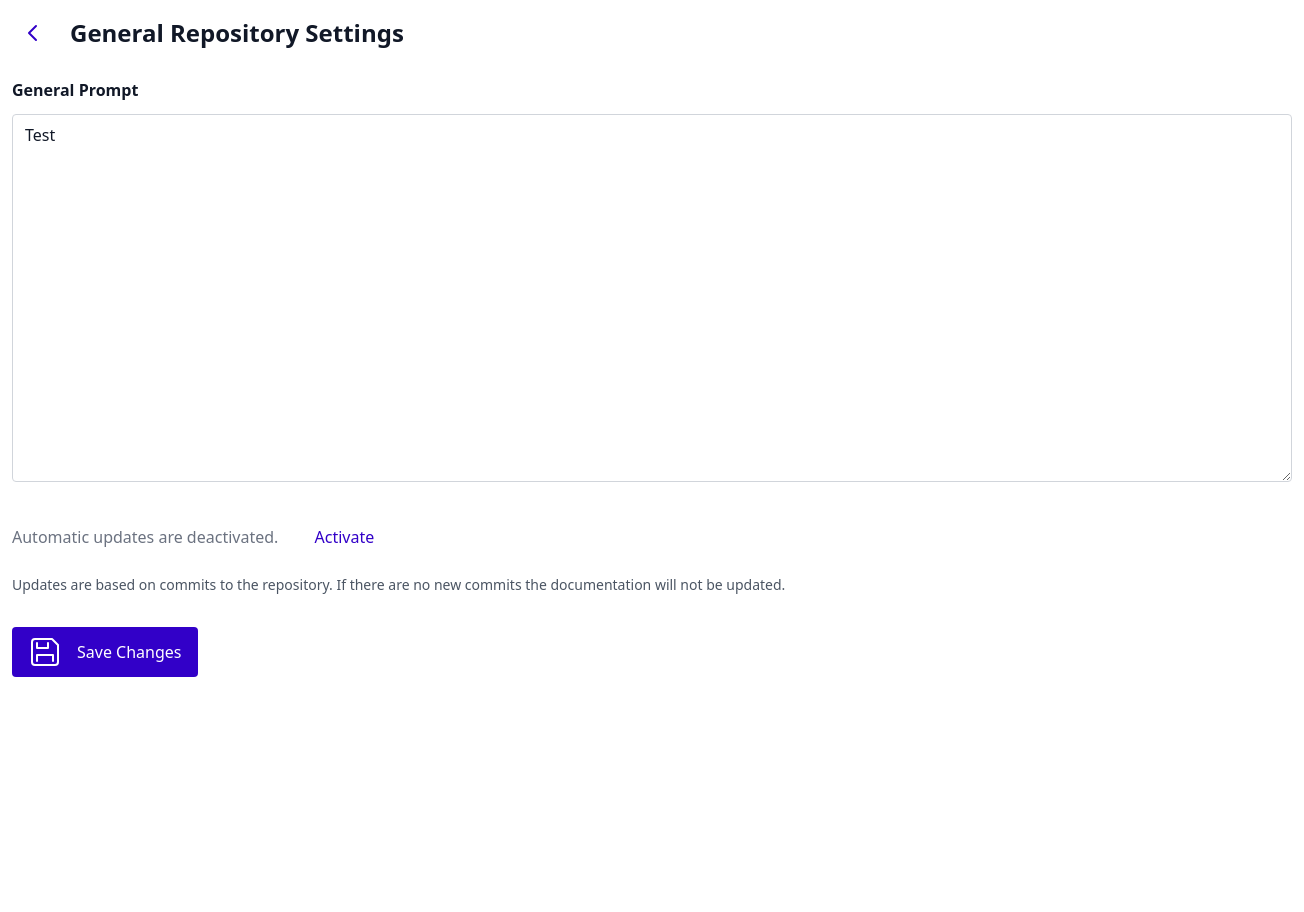
Test case: GeneralSetting - unit tests › enables automatic updates when activate is clicked
The image size is (1304, 912).
Click the button "Activate".
click(344, 537)  # box [294,514,394,559]
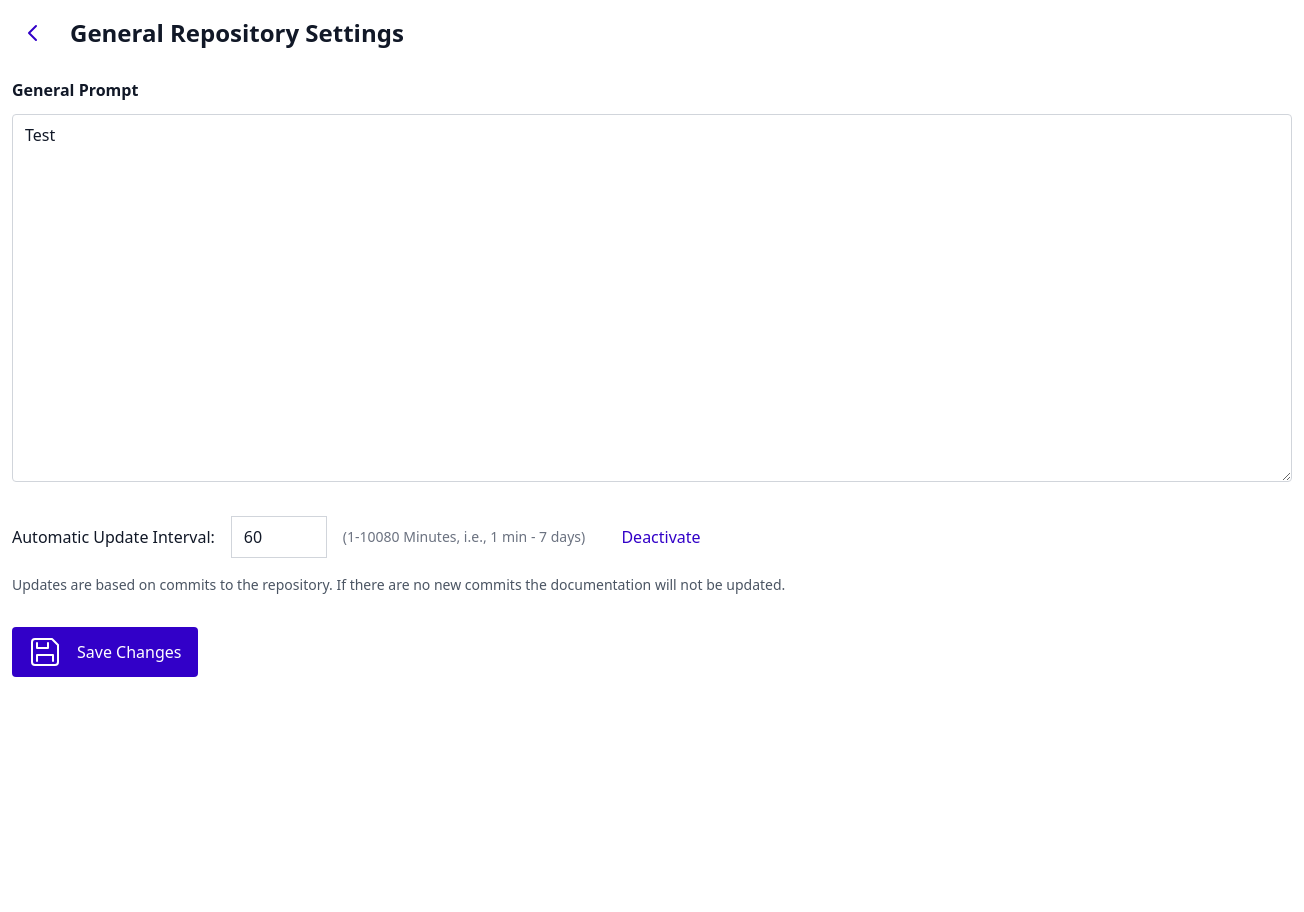
Check: the button "Deactivate" is shown, box [601,514,721,559]
